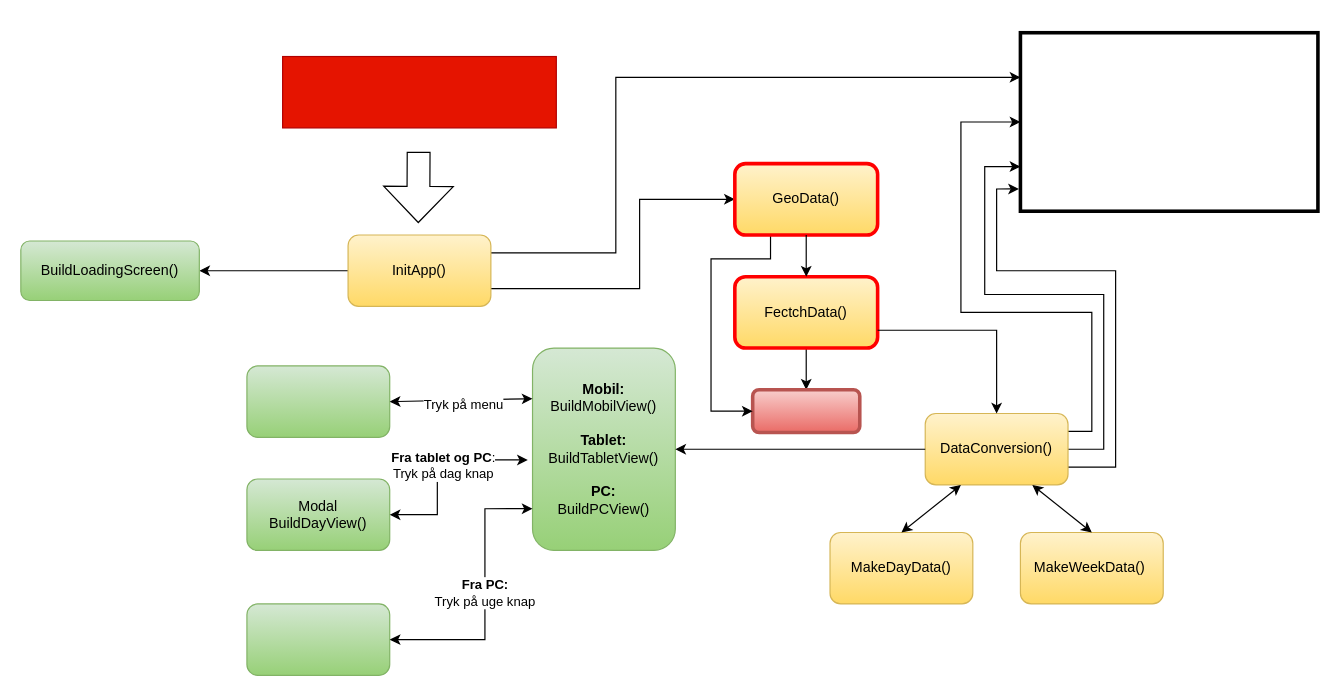
This 1340x696 diagram has some shape labels left out. The box of each missing label's shape, as (x1, y1, x2, y2) in pixels:
ErrorView(): (750, 387, 861, 434)
Globale variabler MyApp (HTML) DayData WeekData CurrentViewTime: (1018, 30, 1319, 212)
Modal BuildMenu(): (246, 365, 390, 437)
Modal BuildWeekView(): (246, 603, 390, 675)
On load: (281, 55, 556, 128)
